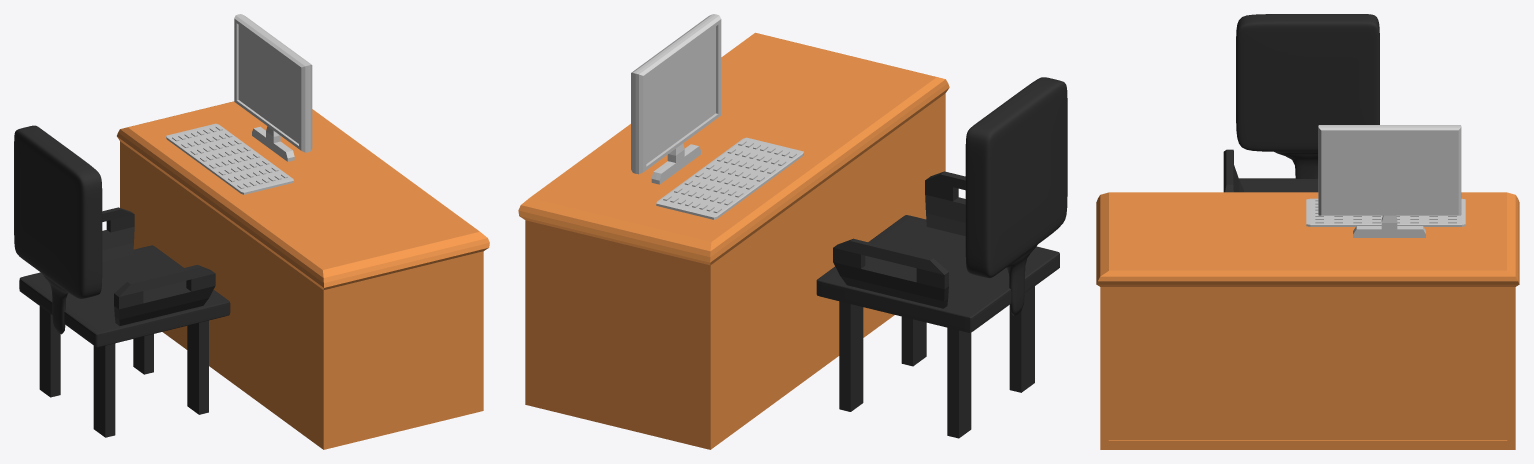
File: masa.fbx
3 views of the same model, side by side, from view 1: azimuth 30°, elevation 25°; view 2: azimuth 150°, elevation 25°; view 3: azimuth 270°, elevation 25° (orthographic). The views are drawn at different scales.
Parts seen in each view (by area): view 1: masa, sandalye; view 2: masa, sandalye; view 3: masa, sandalye.
Part boxes in pixels (<box>): masa: <box>117,14,489,449</box>; sandalye: <box>14,125,230,437</box>; masa: <box>518,14,949,449</box>; sandalye: <box>816,77,1067,438</box>; masa: <box>1096,125,1519,449</box>; sandalye: <box>1223,14,1379,192</box>.
Size of the model in its own units: 414 by 334 by 438.
